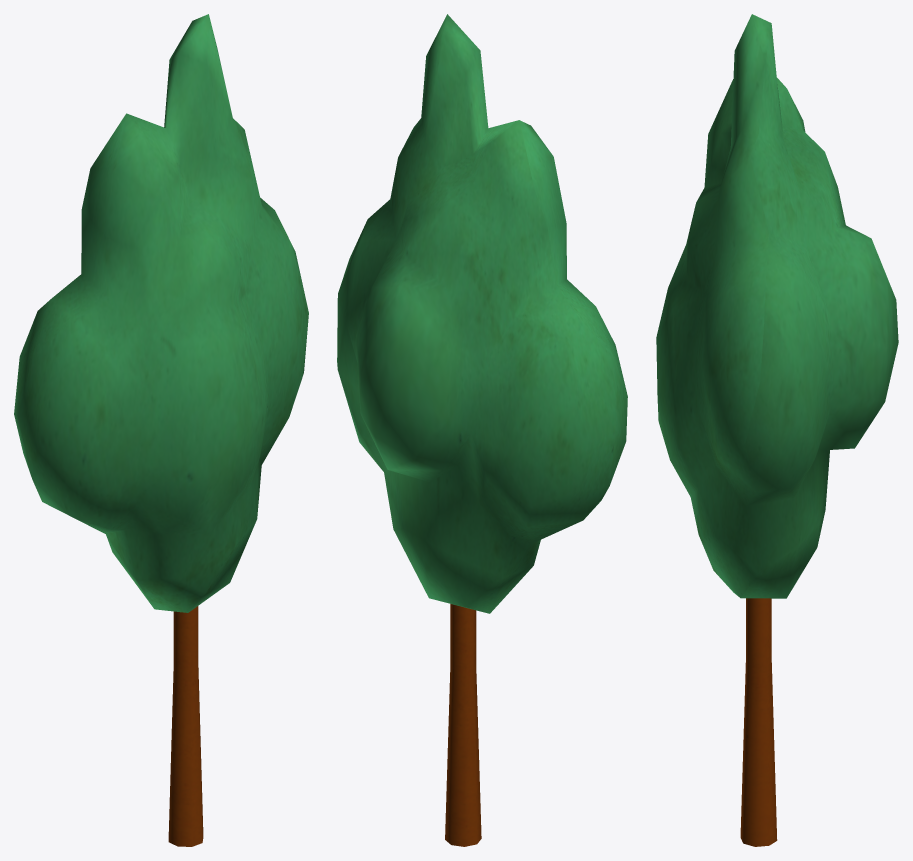
File: Tree_02.fbx
3 renders of one model, left to right at view 1: azimuth 30°, elevation 25°; view 2: azimuth 150°, elevation 25°; view 3: azimuth 270°, elevation 25°, orthographic. The views are drawn at different scales.
Parts seen in each view (by area): view 1: Tree_02; view 2: Tree_02; view 3: Tree_02.
Boxes of the visible parts, x1,y1,x2,y2 form: Tree_02: (14, 14, 308, 846); Tree_02: (337, 14, 627, 846); Tree_02: (656, 14, 898, 846).
Bounding box in the file's own units: 4.01 × 2.96 × 11.27.
